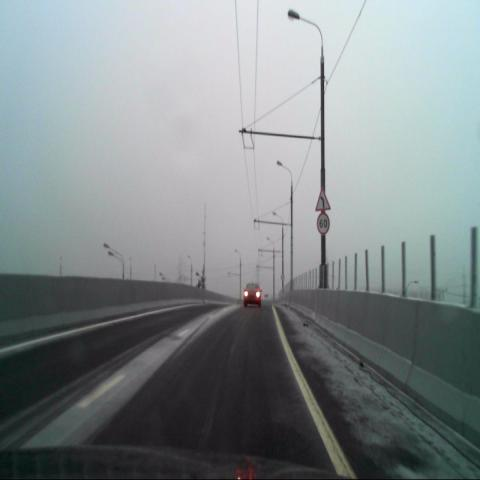3_24: (316, 212, 330, 235)
